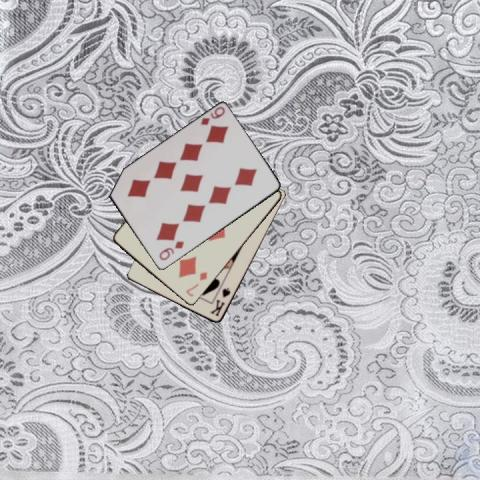7d: (182, 269, 208, 298)
9d: (197, 103, 227, 127), (156, 238, 185, 262)
Ks: (207, 285, 232, 318)
